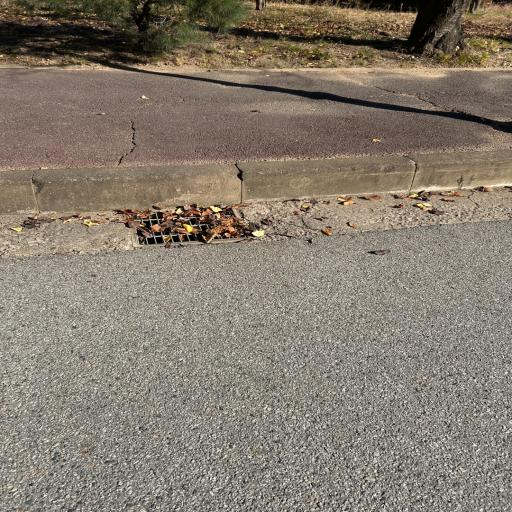debris: (163, 235, 171, 241)
drain: (125, 206, 248, 243)
